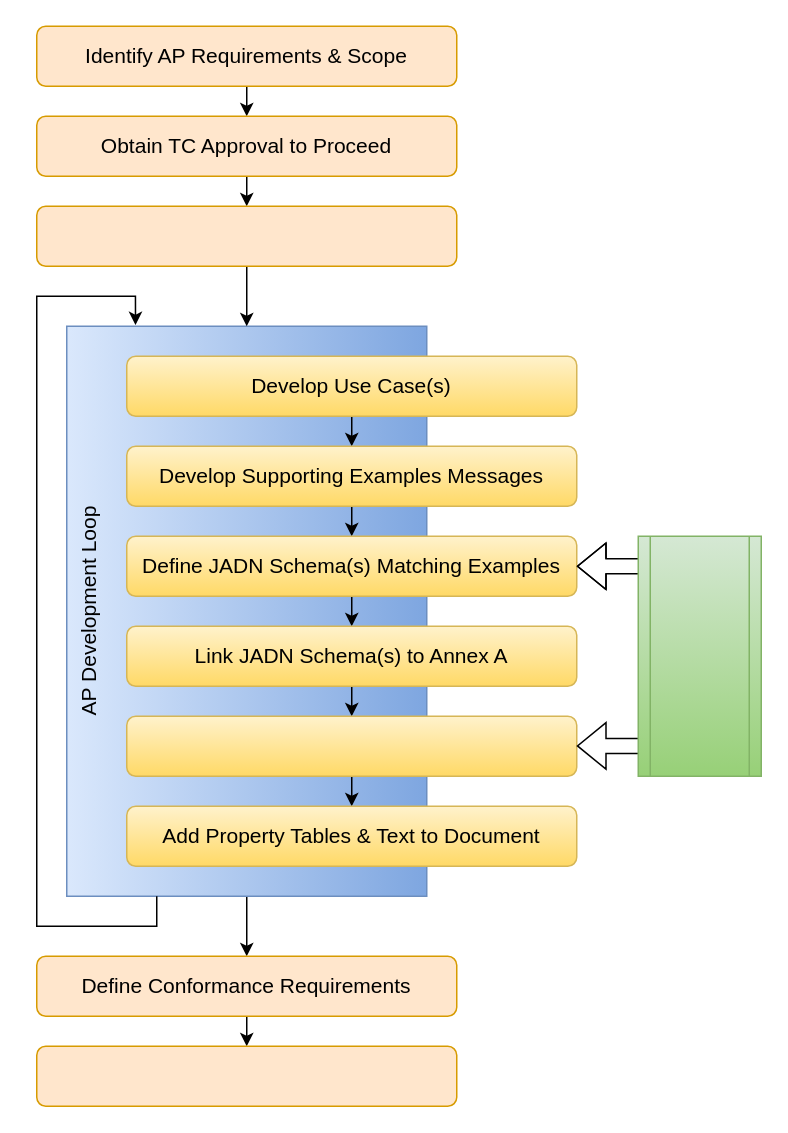
Image size: 788x1133. Some labels were removed from this diagram. The shapes that lost their labels are listed below. From the top down, each one's centre as x and y in pixels, then its label:
At point (246, 235): "Request Starter Doc & Repo from OASIS".
At point (699, 655): "JADN Tooling".
At point (351, 745): "Create Property Tables from JADN Schema(s)".
At point (246, 1075): "Review, Update, Finalize, Publish".
